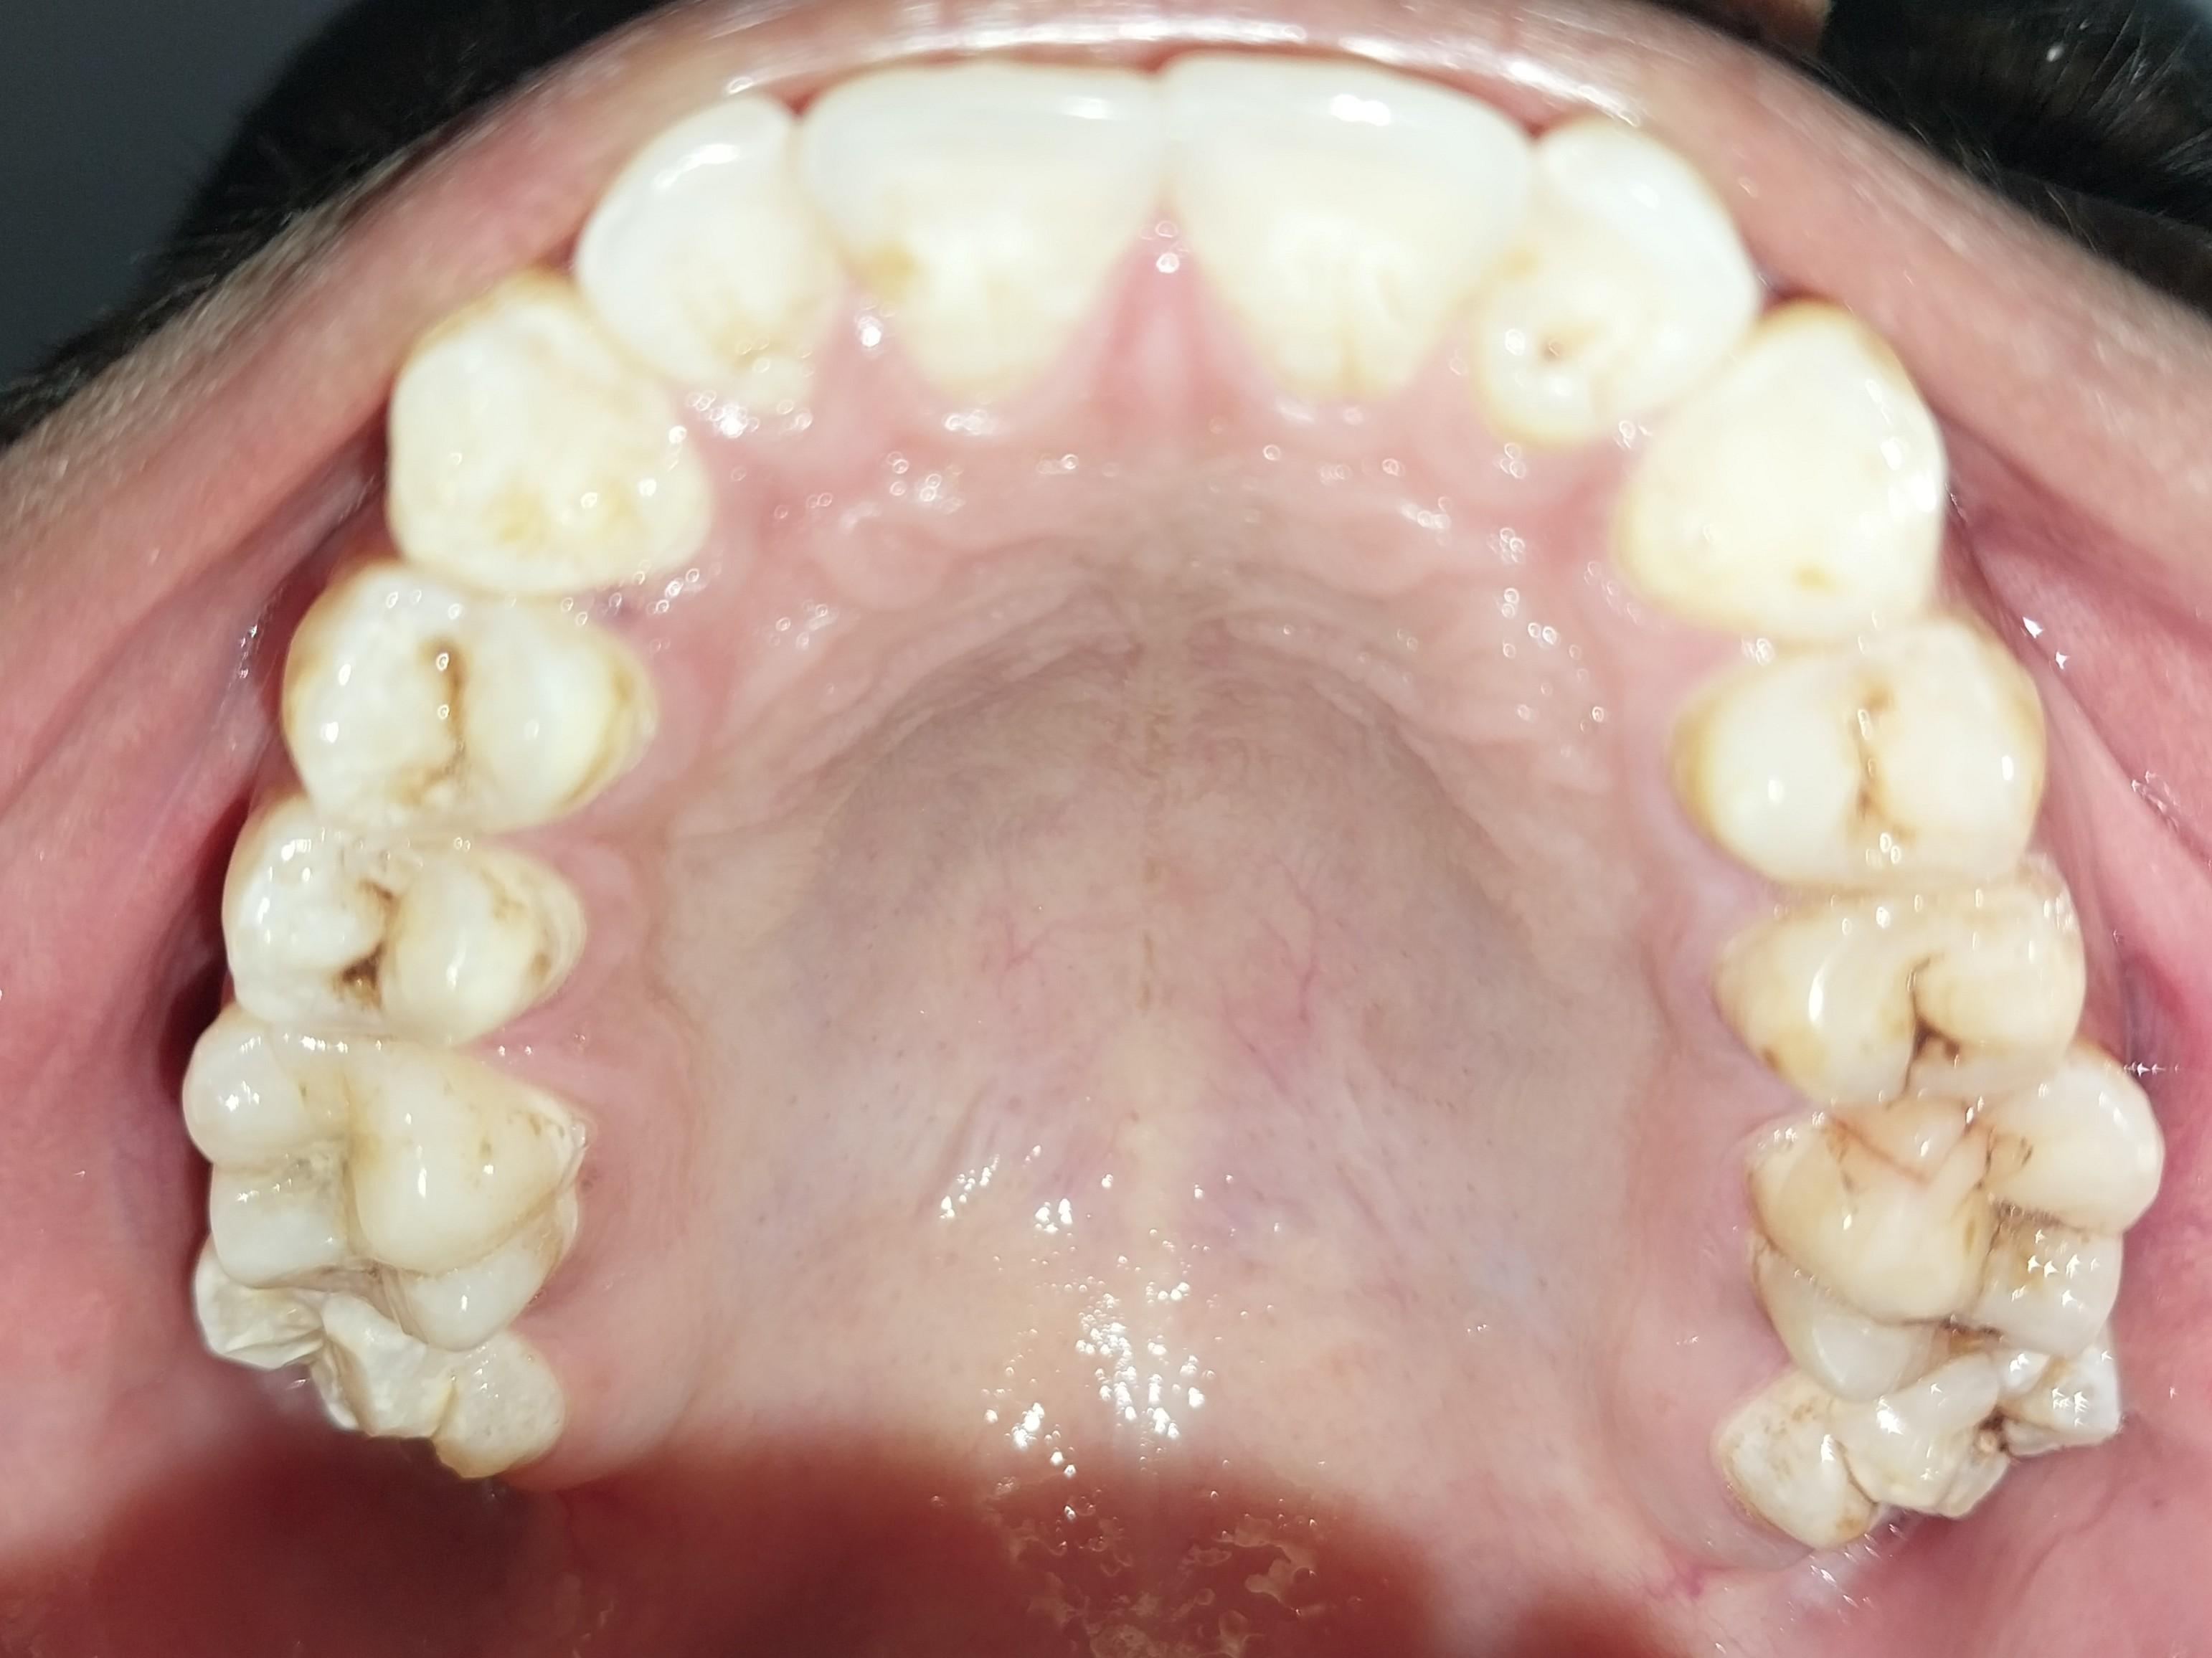D: (1774, 1102, 2165, 1383), (1714, 895, 2087, 1109), (224, 800, 549, 1036), (1777, 1357, 2133, 1552)
